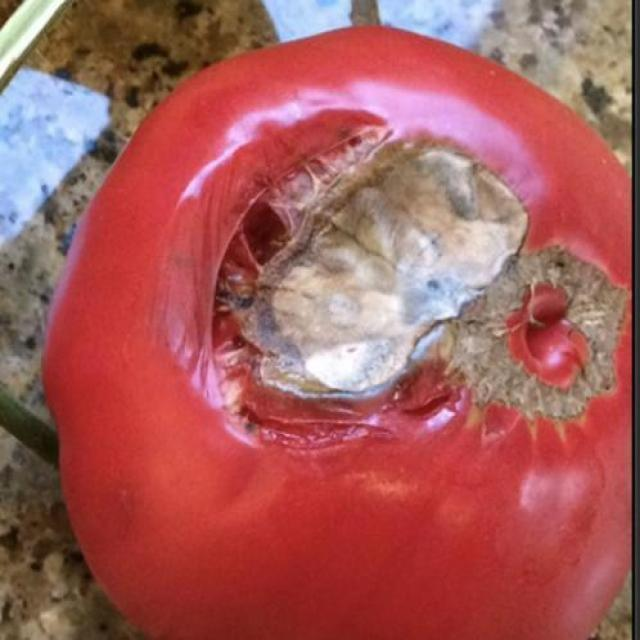Blossom End Rot Fruit: (116, 76, 419, 296)
